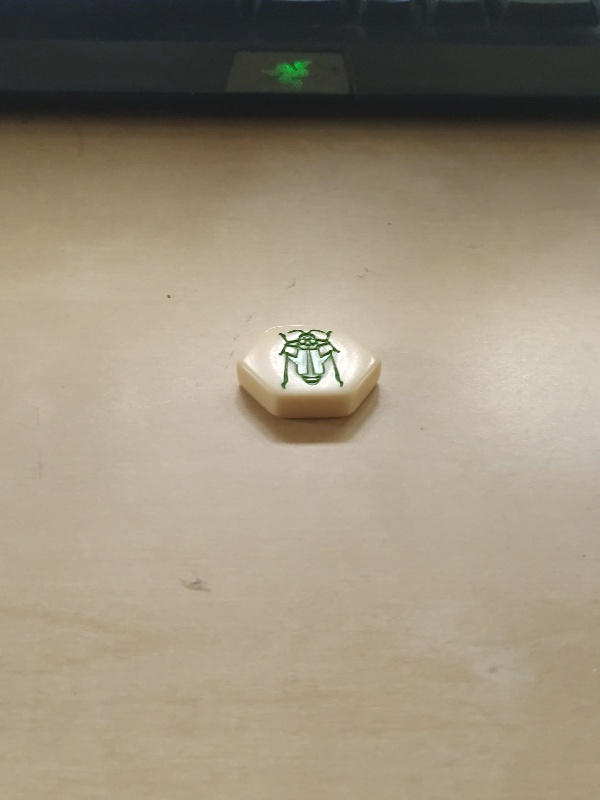white_grasshopper: (236, 325, 380, 420)
